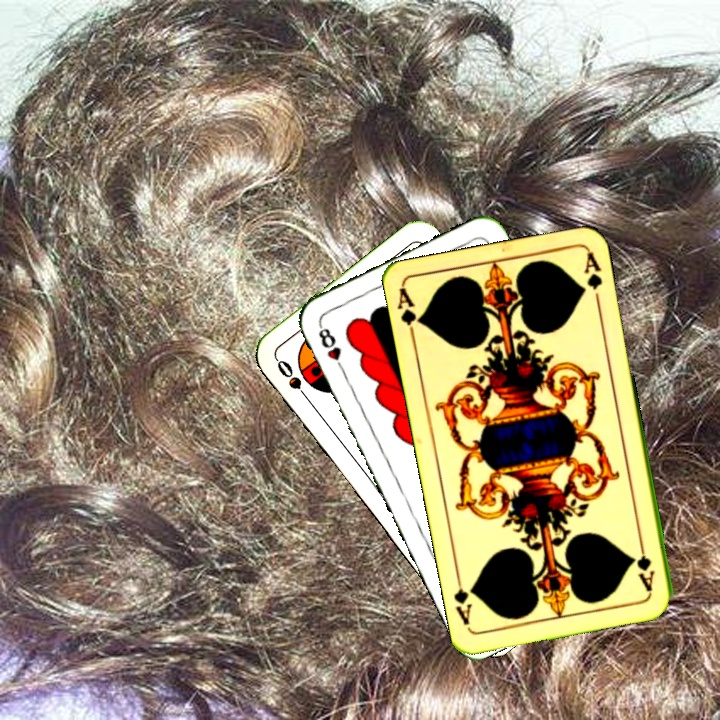GA: (394, 285, 425, 344), (632, 535, 657, 594)
H8: (314, 320, 348, 375)
SO: (272, 355, 314, 406)
